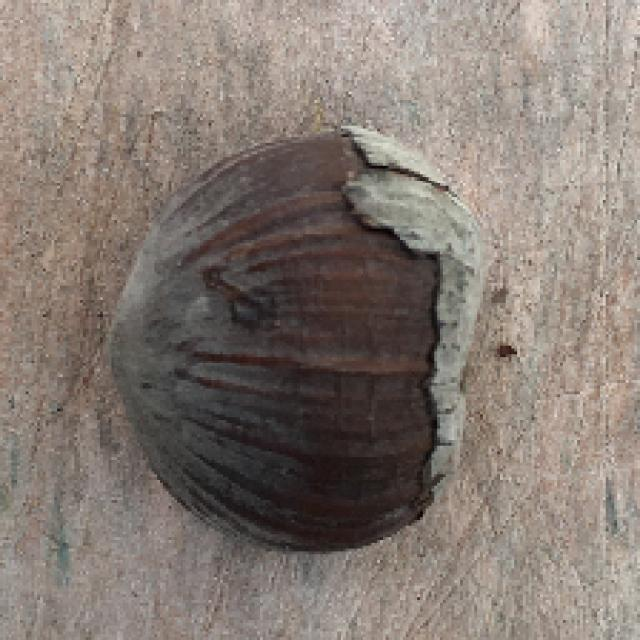damagedHazelnut: (101, 124, 482, 559)
